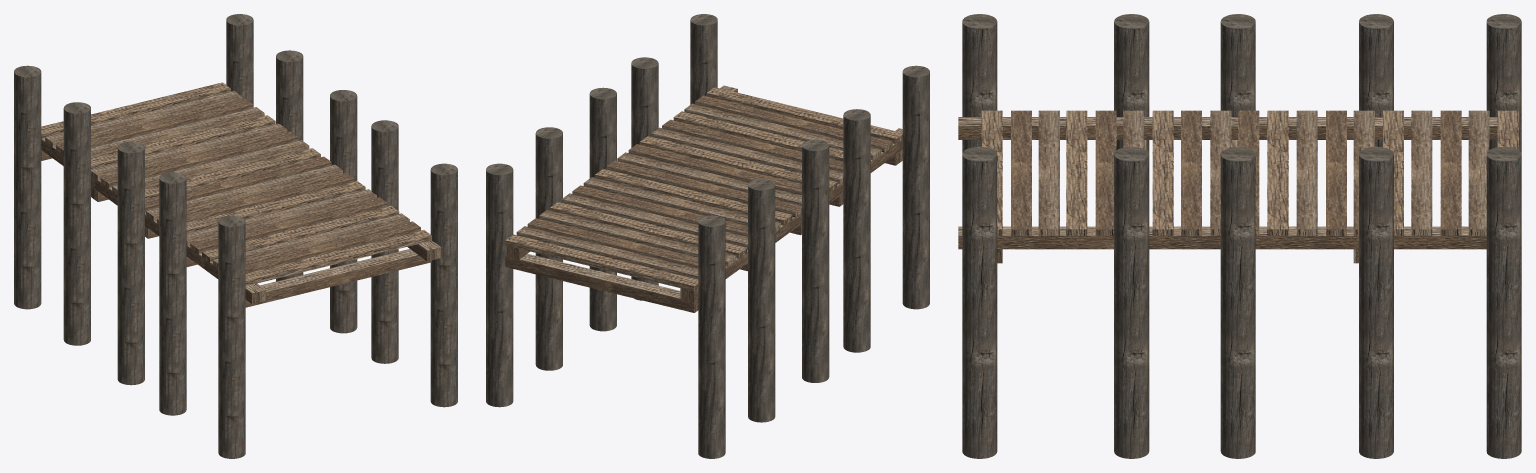
Rendered from tablamadera.fbx.
3 renders of one model, left to right at view 1: azimuth 30°, elevation 25°; view 2: azimuth 150°, elevation 25°; view 3: azimuth 270°, elevation 25°, orthographic. The views are drawn at different scales.
Parts seen in each view (by area): view 1: tablas, columna 7, columna 5, columna 9, columan 10, columna 2; view 2: tablas, columna 2, columan 10, columna 9, columna 5, columna 7; view 3: tablas, columna 7, columna 2, columna 5, columna 9, columan 10.
Part boxes in pixels (bbox=[...]): tablas: bbox=[41, 82, 441, 304]; columna 7: bbox=[218, 163, 457, 458]; columna 5: bbox=[159, 120, 398, 415]; columna 9: bbox=[117, 90, 357, 385]; columan 10: bbox=[63, 50, 303, 345]; columna 2: bbox=[14, 14, 253, 309]; tablas: bbox=[505, 85, 902, 302]; columna 2: bbox=[486, 163, 725, 458]; columan 10: bbox=[535, 127, 775, 422]; columna 9: bbox=[589, 87, 829, 382]; columna 5: bbox=[631, 57, 870, 352]; columna 7: bbox=[690, 14, 929, 309]; tablas: bbox=[958, 110, 1518, 249]; columna 7: bbox=[962, 14, 1002, 458]; columna 2: bbox=[1486, 14, 1521, 458]; columna 5: bbox=[1114, 14, 1149, 458]; columna 9: bbox=[1220, 14, 1255, 458]; columan 10: bbox=[1353, 14, 1393, 458].
Bounding box in the file's own units: 498 × 469 × 804.
2 materials, 2 textured.
